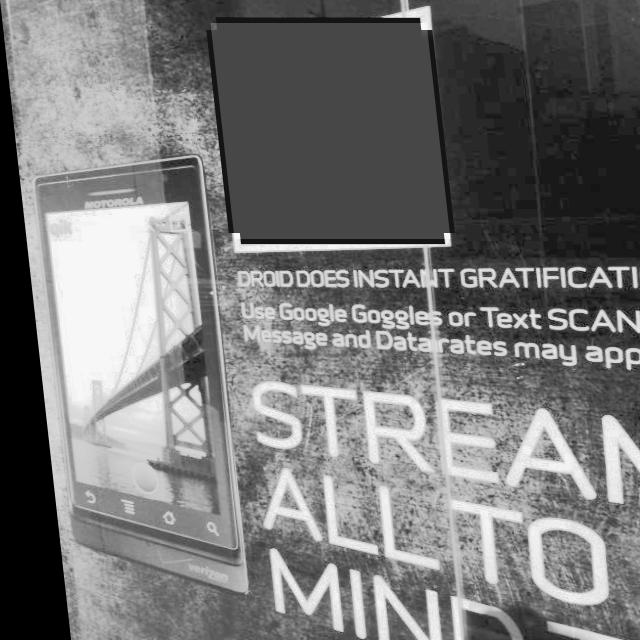qr_code: (210, 23, 445, 239)
